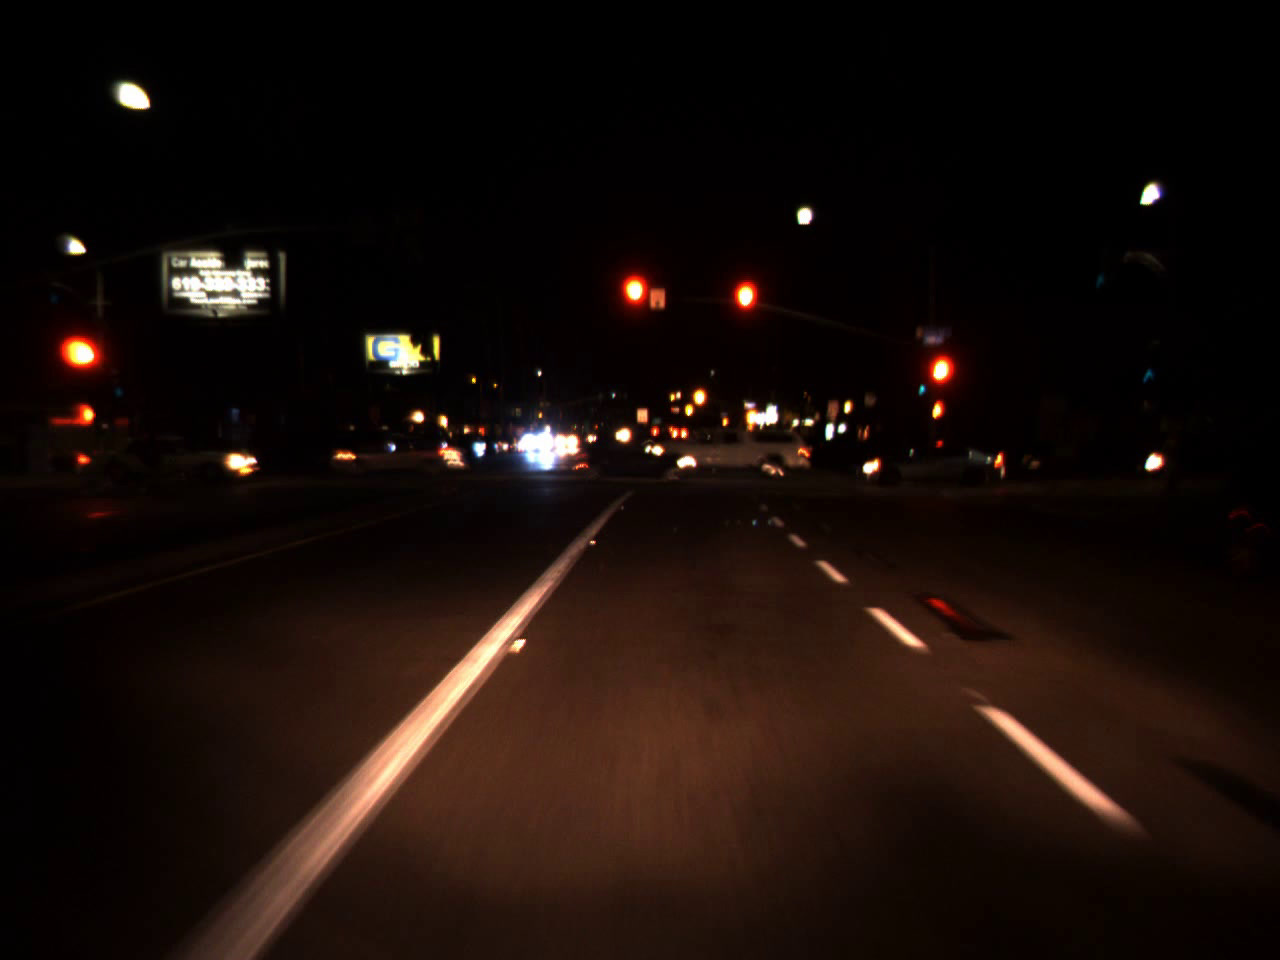stop: (63, 335, 106, 402), (924, 349, 959, 424), (618, 269, 652, 344), (729, 275, 762, 347)
warning: (689, 379, 708, 414), (744, 399, 759, 431), (683, 395, 695, 422), (721, 411, 728, 431)
